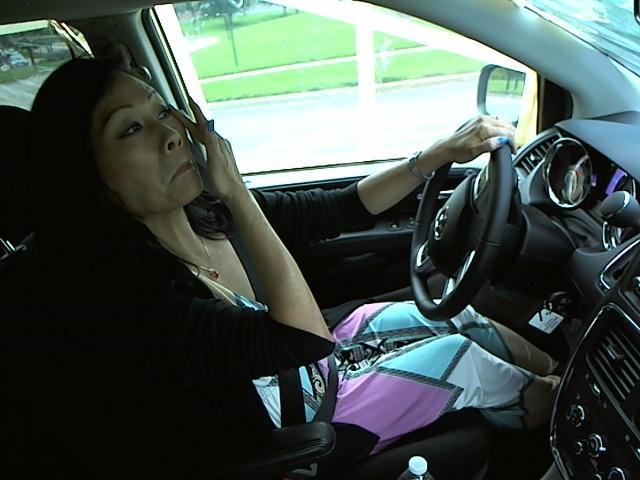c6 - Hair and Makeup: (25, 55, 545, 401)
